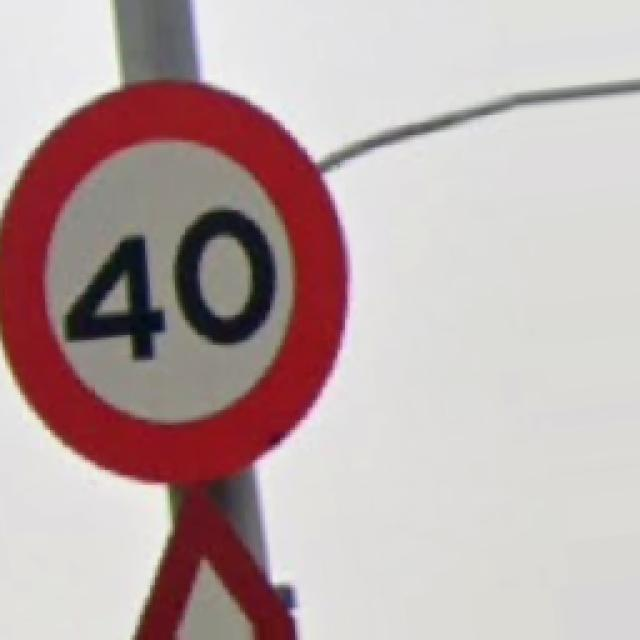Speed Limit -40-: (0, 85, 345, 480)
